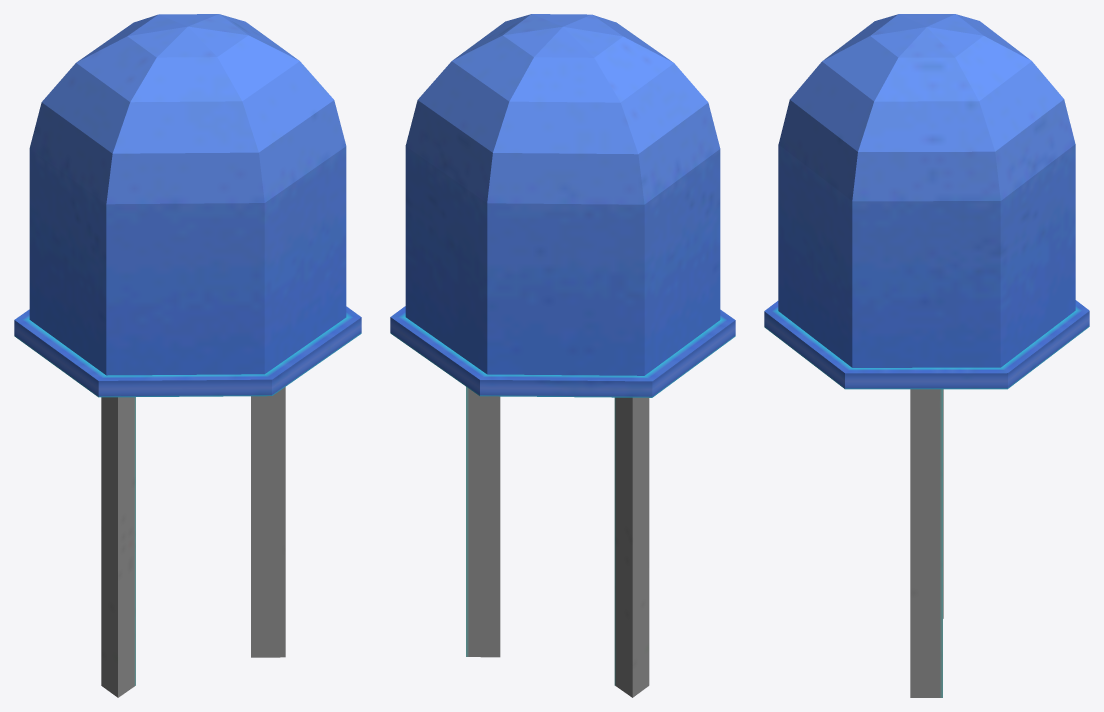
The model's file is LEDBlue.obj.
3 renders of one model, left to right at view 1: azimuth 30°, elevation 25°; view 2: azimuth 150°, elevation 25°; view 3: azimuth 270°, elevation 25°, orthographic. The views are drawn at different scales.
Visible parts, largest first — view 1: LEDBlue_Sphere; view 2: LEDBlue_Sphere; view 3: LEDBlue_Sphere.
Part boxes in pixels (box(x1,y1,x2,y2)): LEDBlue_Sphere: box(14, 14, 361, 697); LEDBlue_Sphere: box(390, 14, 735, 697); LEDBlue_Sphere: box(764, 14, 1089, 697).
Size of the model in its own units: 0.1921 by 0.4509 by 0.2115.
